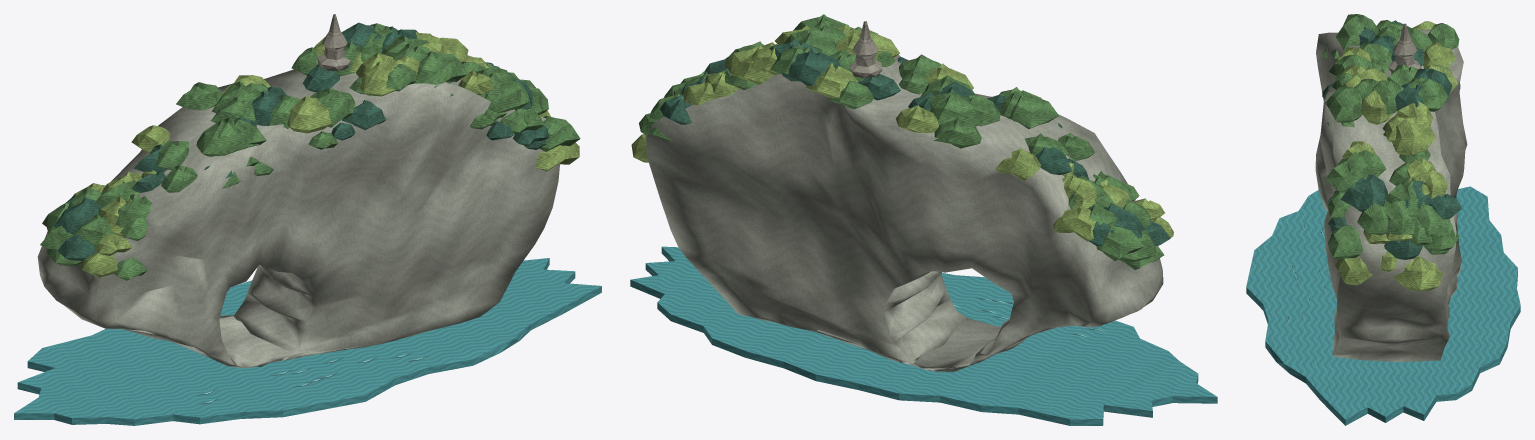
The model's file is elephant-hill.glb.
The picture shows the model from 3 angles, left to right: view 1: azimuth 30°, elevation 25°; view 2: azimuth 150°, elevation 25°; view 3: azimuth 270°, elevation 25°; orthographic projection. The views are drawn at different scales.
Visible parts, largest first — view 1: 桂林象鼻山; view 2: 桂林象鼻山; view 3: 桂林象鼻山.
Part boxes in pixels (<box>): 桂林象鼻山: <box>14,14,601,425</box>; 桂林象鼻山: <box>630,14,1217,425</box>; 桂林象鼻山: <box>1246,14,1520,425</box>.
Bounding box in the file's own units: 6.68 × 3.54 × 2.95.
Materials: 7 (7 with a texture image).
